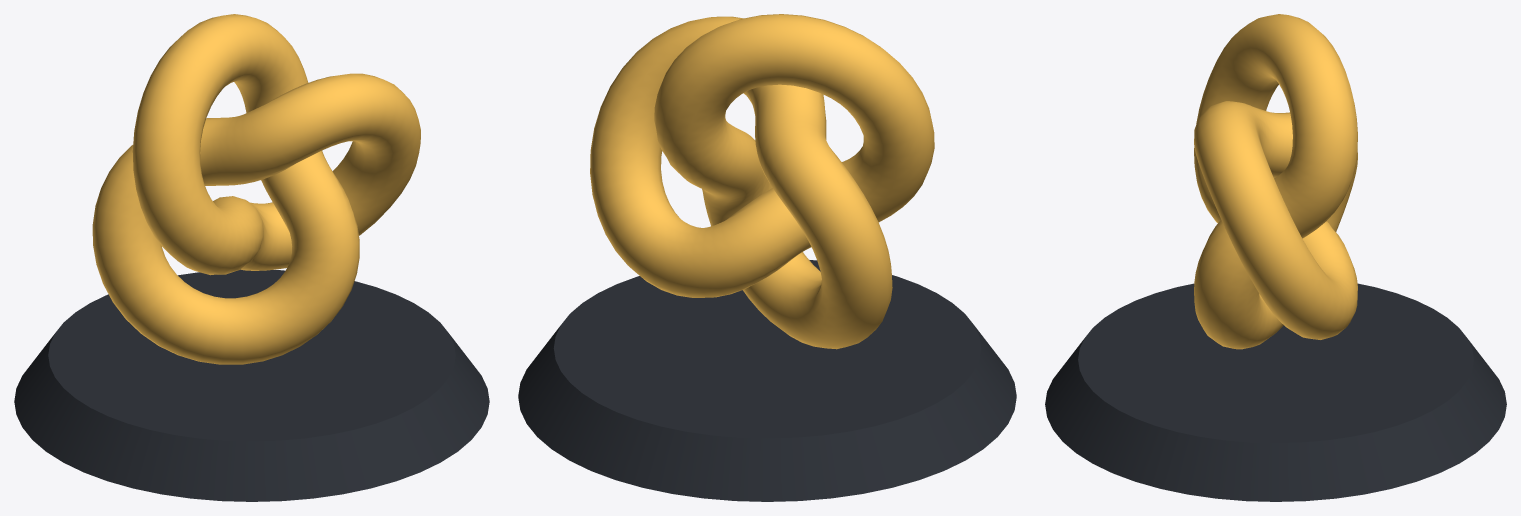
File: spinning-knot.glb
3 renders of one model, left to right at view 1: azimuth 30°, elevation 25°; view 2: azimuth 150°, elevation 25°; view 3: azimuth 270°, elevation 25°, orthographic. The views are drawn at different scales.
Visible parts, largest first — view 1: knot, plinth; view 2: plinth, knot; view 3: plinth, knot.
Part boxes in pixels (<box>): knot: <box>92,14,420,364</box>; plinth: <box>14,269,489,501</box>; plinth: <box>518,260,1016,501</box>; knot: <box>590,14,934,349</box>; plinth: <box>1045,283,1506,501</box>; knot: <box>1194,14,1357,349</box>.
Size of the model in its own units: 1.4 by 1.22 by 1.4.
